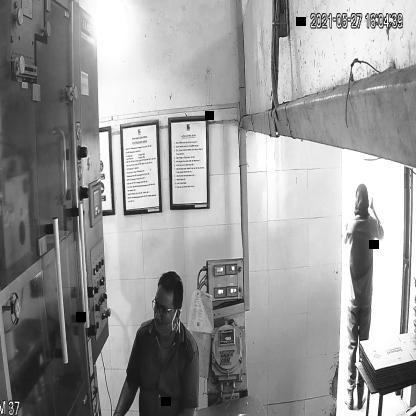goggles: (151, 294, 181, 318)
